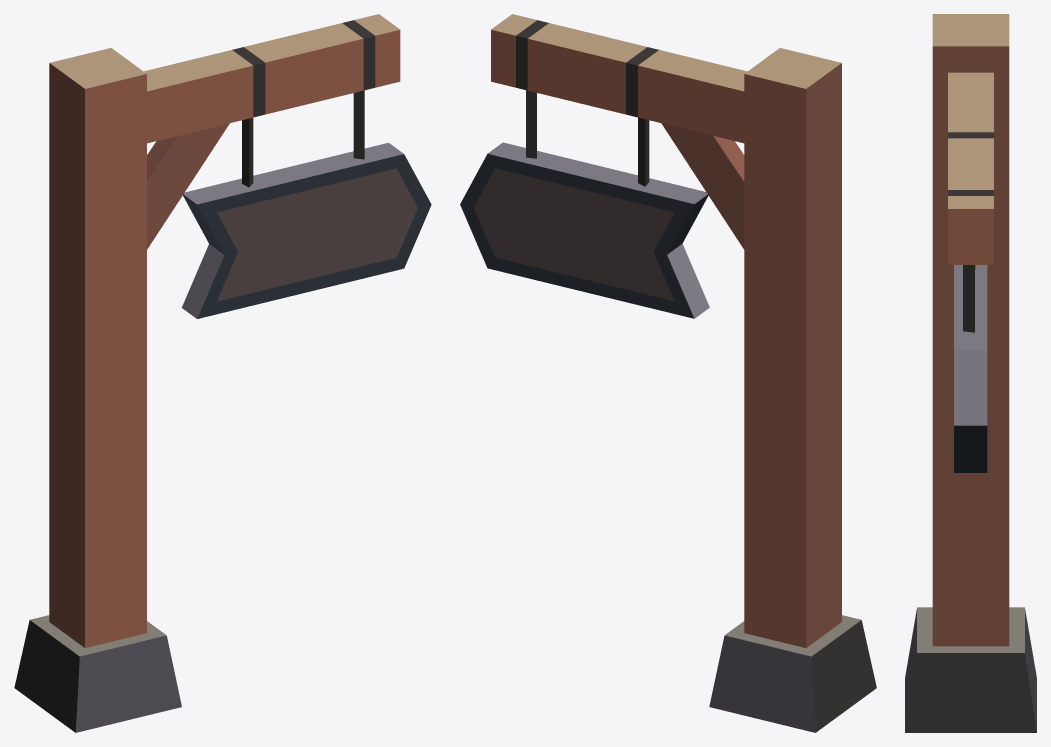
The model's file is TB_Prop_Sign_Arrow_A.FBX.
3 views of the same model, side by side, from view 1: azimuth 30°, elevation 25°; view 2: azimuth 150°, elevation 25°; view 3: azimuth 270°, elevation 25° (orthographic). The views are drawn at different scales.
Visible parts, largest first — view 1: TB_Prop_Sign_Arrow_A; view 2: TB_Prop_Sign_Arrow_A; view 3: TB_Prop_Sign_Arrow_A.
Part boxes in pixels (box(x1,y1,x2,y2)): TB_Prop_Sign_Arrow_A: box(14, 14, 431, 732); TB_Prop_Sign_Arrow_A: box(460, 14, 876, 732); TB_Prop_Sign_Arrow_A: box(905, 14, 1036, 732).
Bounding box in the file's own units: 1.85 × 2.93 × 0.5186.
